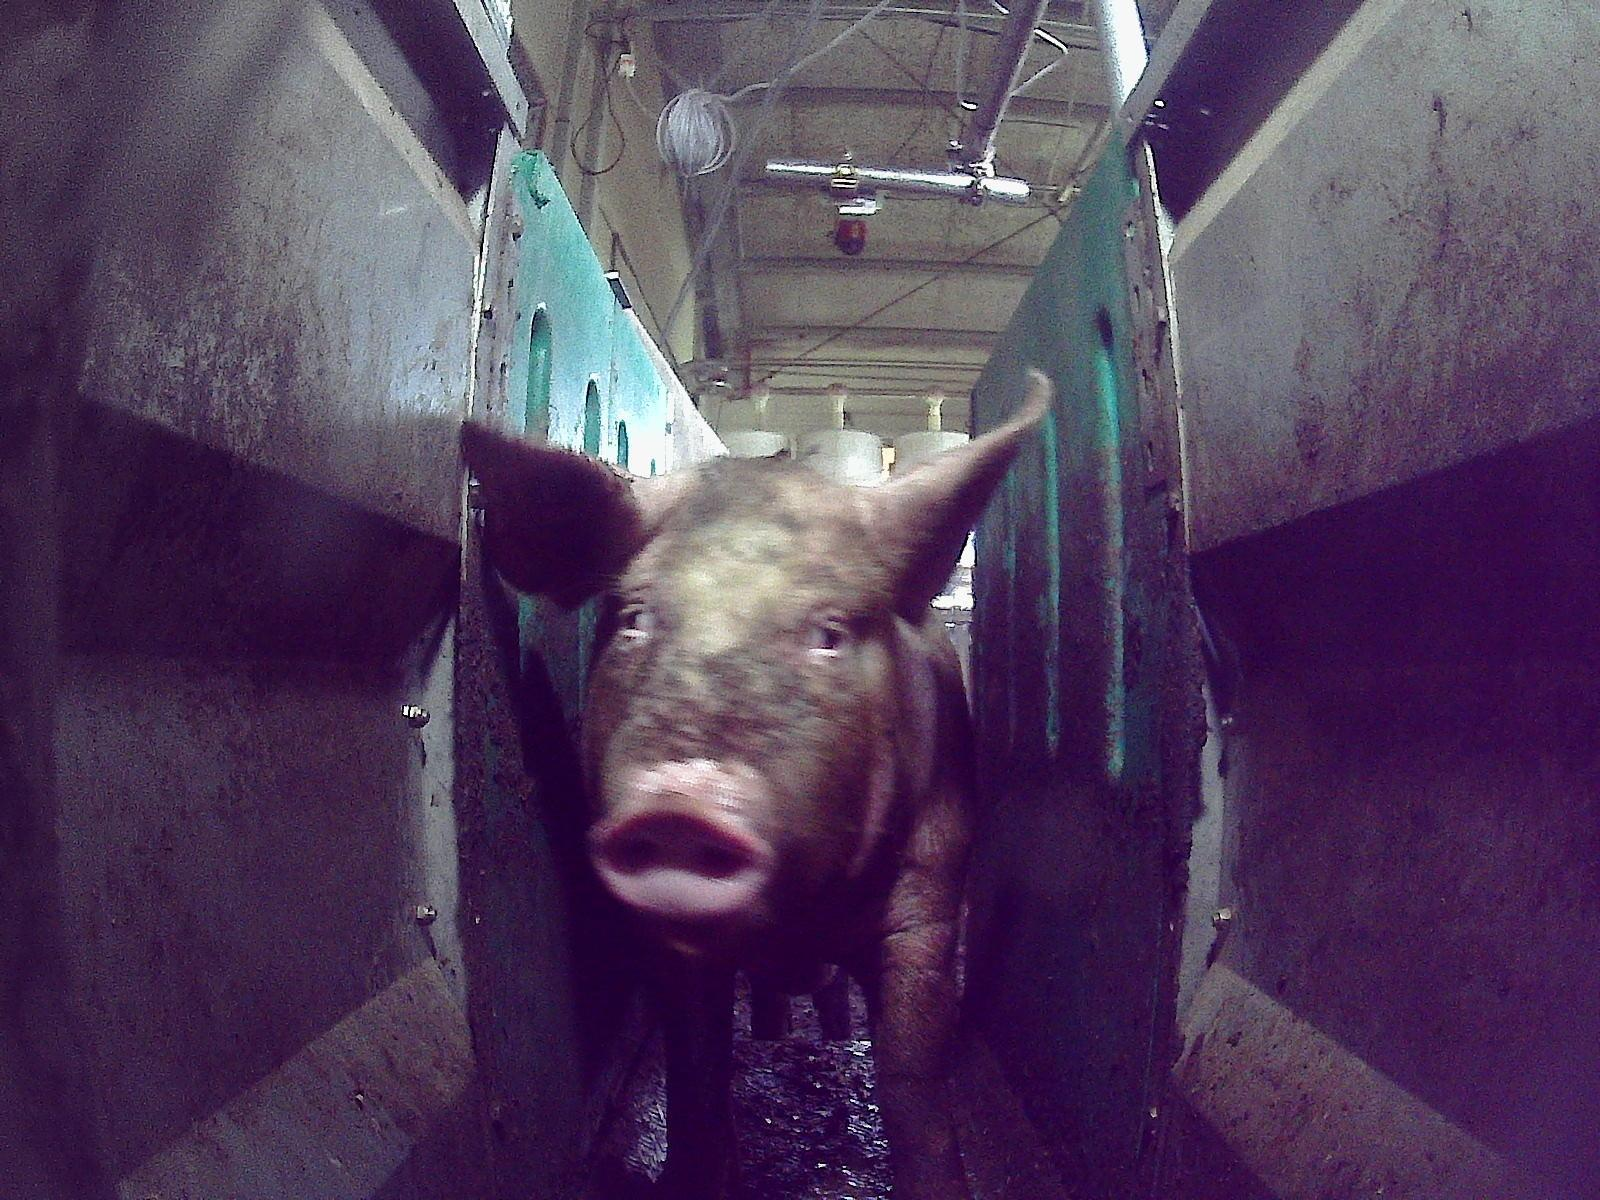Face: (578, 459, 926, 970)
